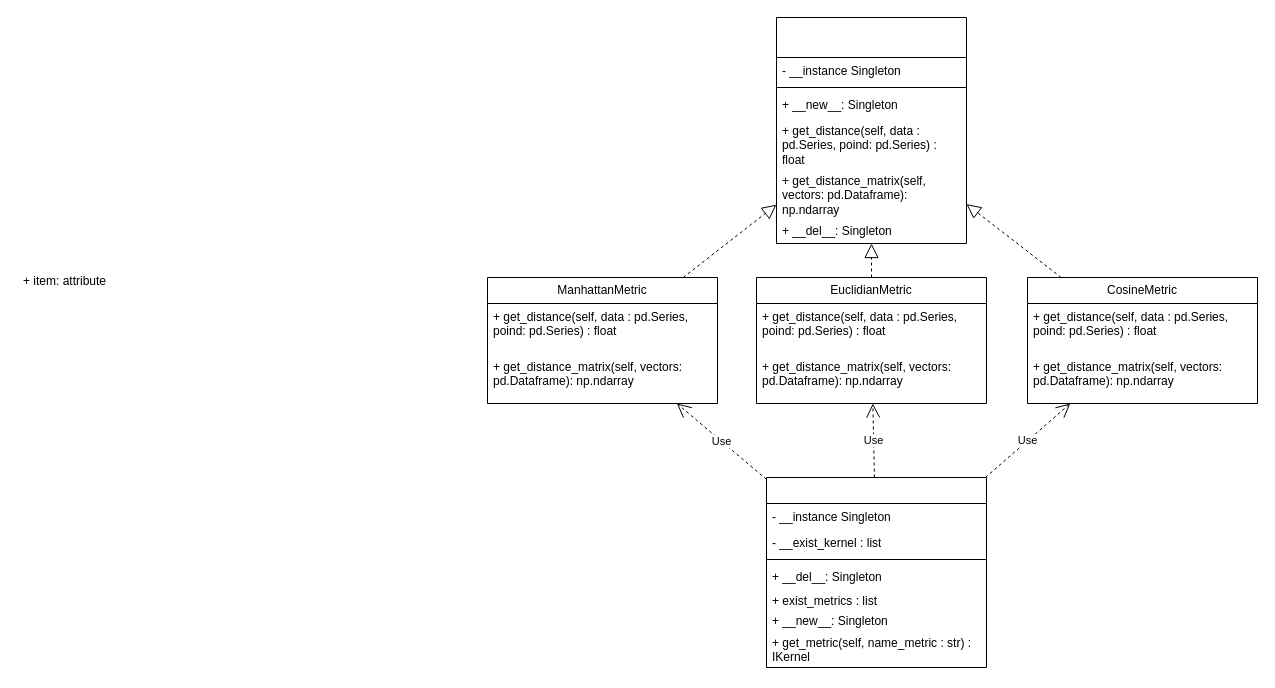
The diagram is 1275 pixels wide and 688 high, and some of its shapes have lost their labels. Each missing label, with the box of its shape:
<<Interface>> IMetric: (776, 16, 966, 244)
MetricFactory: (766, 476, 986, 668)
